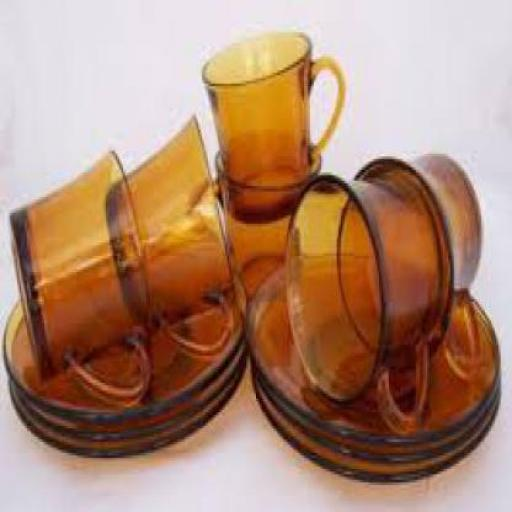glass: (246, 248, 501, 445), (285, 170, 442, 432), (250, 329, 501, 480), (6, 148, 150, 398), (337, 148, 483, 378), (0, 285, 239, 418), (106, 111, 232, 353), (200, 27, 345, 183), (8, 370, 246, 456), (212, 137, 321, 280)
